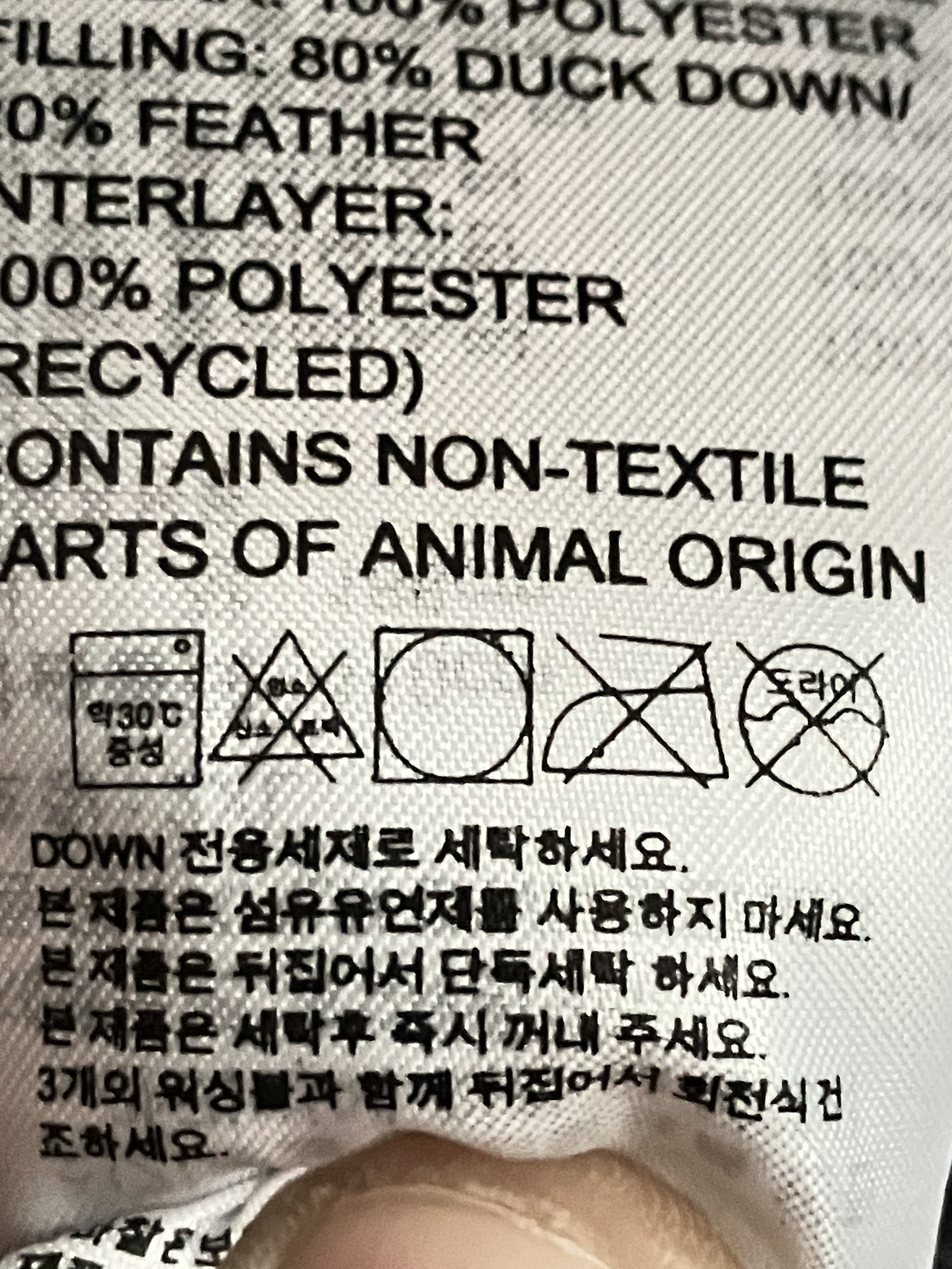KR_no_bleach: (210, 621, 364, 788)
KR_no_dry_clean: (737, 634, 890, 796)
KR_no_iron: (540, 625, 733, 793)
KR_tumble_dry: (365, 610, 541, 800)
KR_wash_warm_30_neutral: (61, 614, 210, 801)
